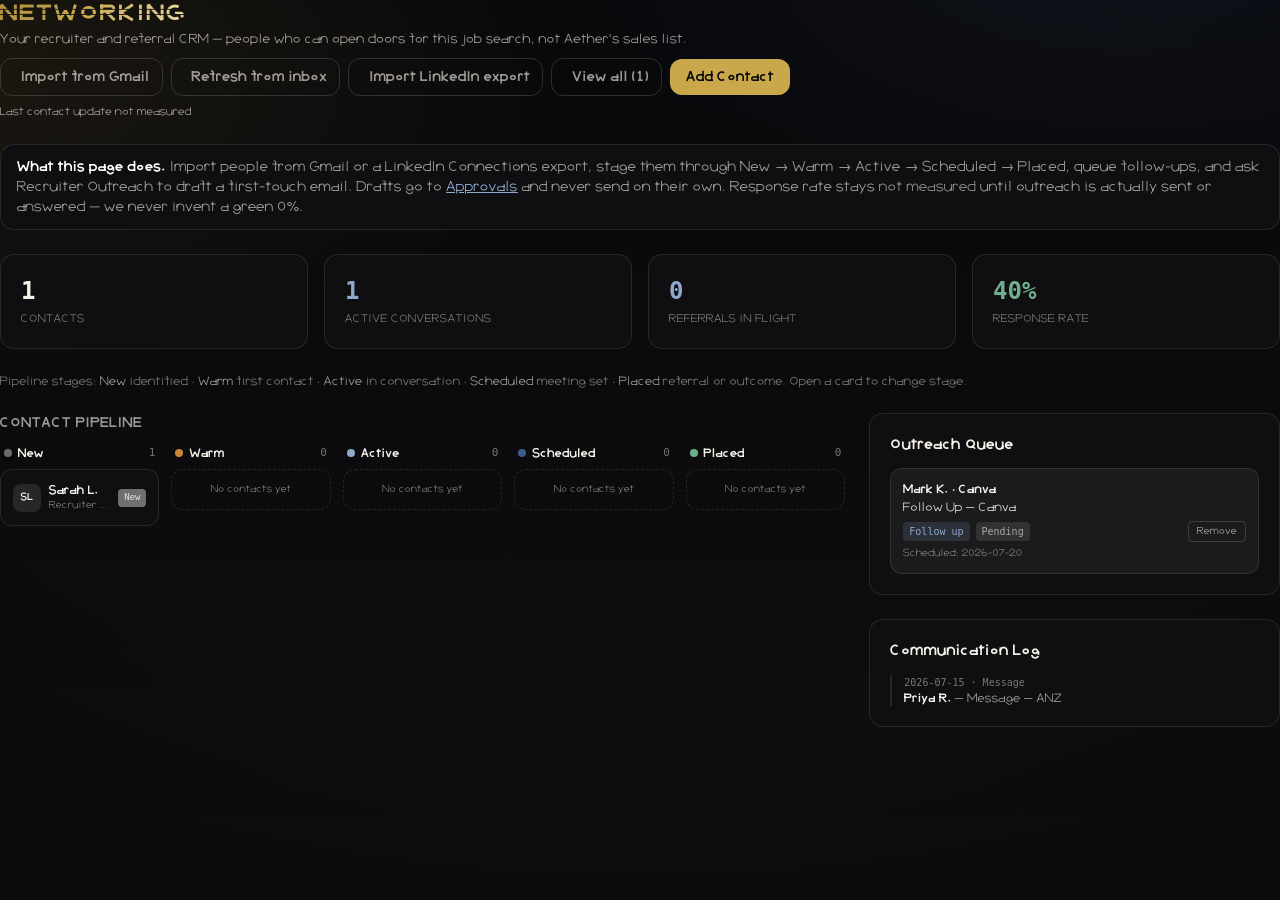
Scenario: NetworkingPage — Add Contact wiring (MV-networking-001) › refetches the summary and renders the persisted contact after a successful save (no reload-loss)
Click the button with test id "add-contact-btn" at {"x": 730, "y": 77}, box [670,59,790,95]
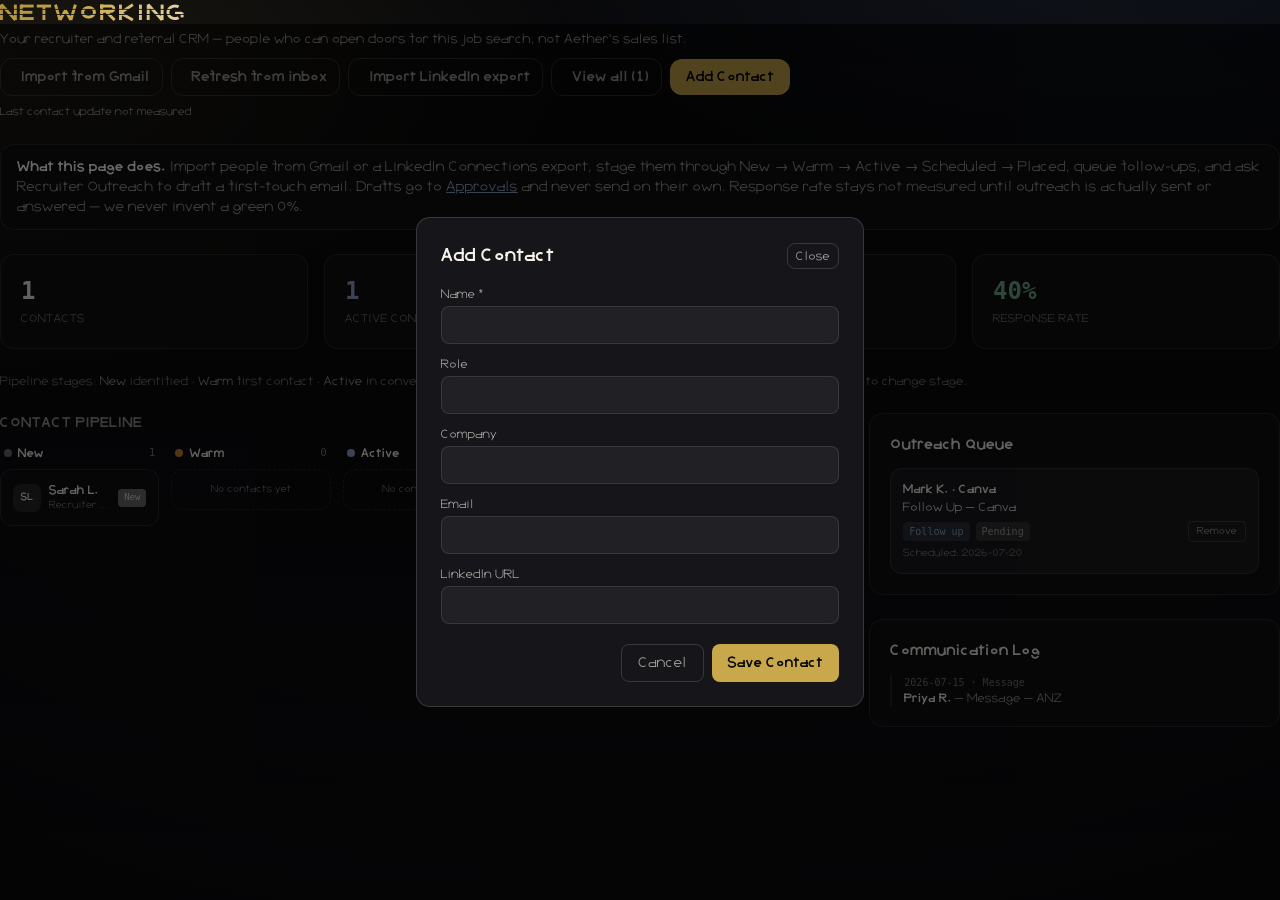
Type "Jamie Rivera" into the field with test id "contact-name-input" at {"x": 640, "y": 325}, box [441,306,839,344]
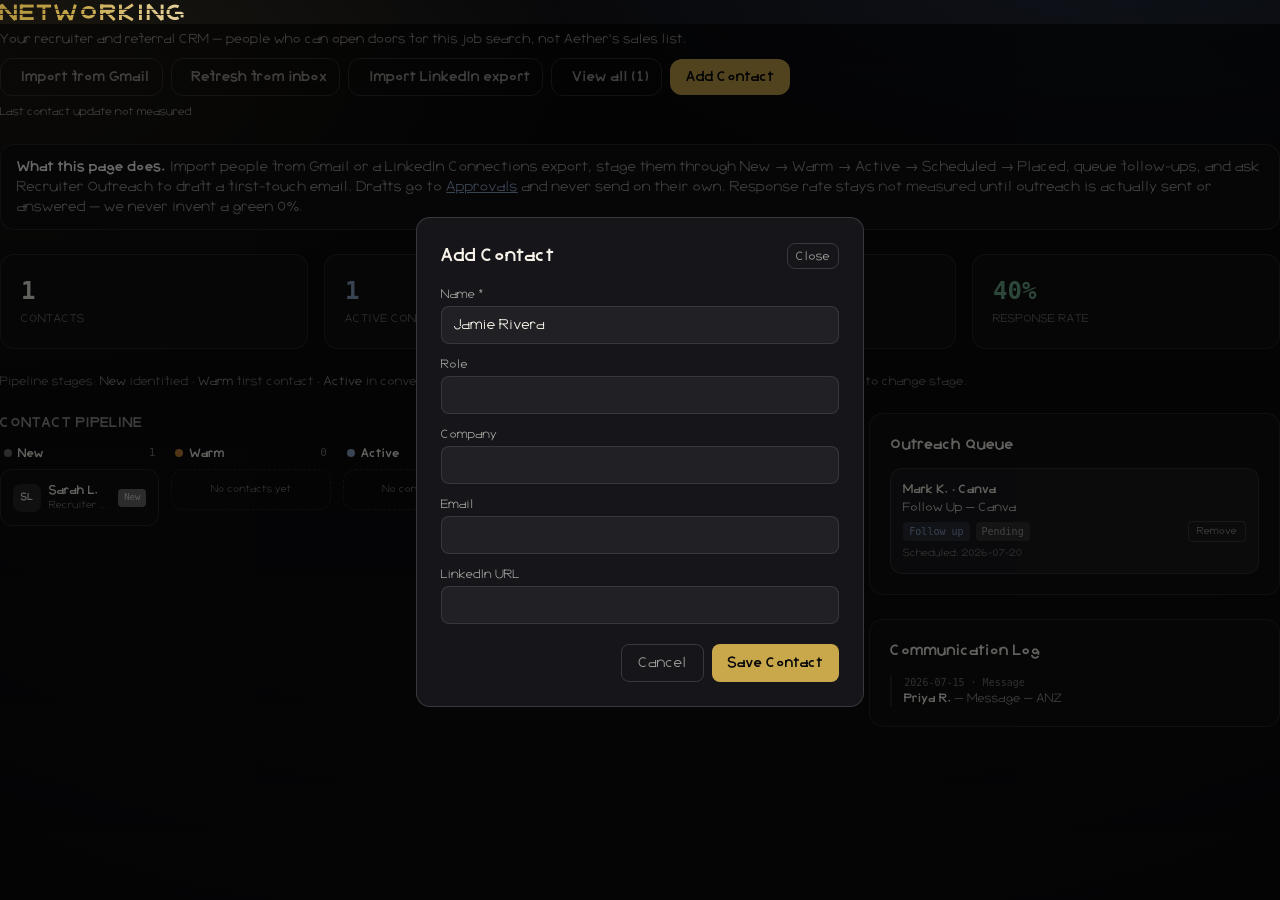
Click the button with test id "save-contact-btn" at {"x": 775, "y": 663}, box [712,644,839,682]
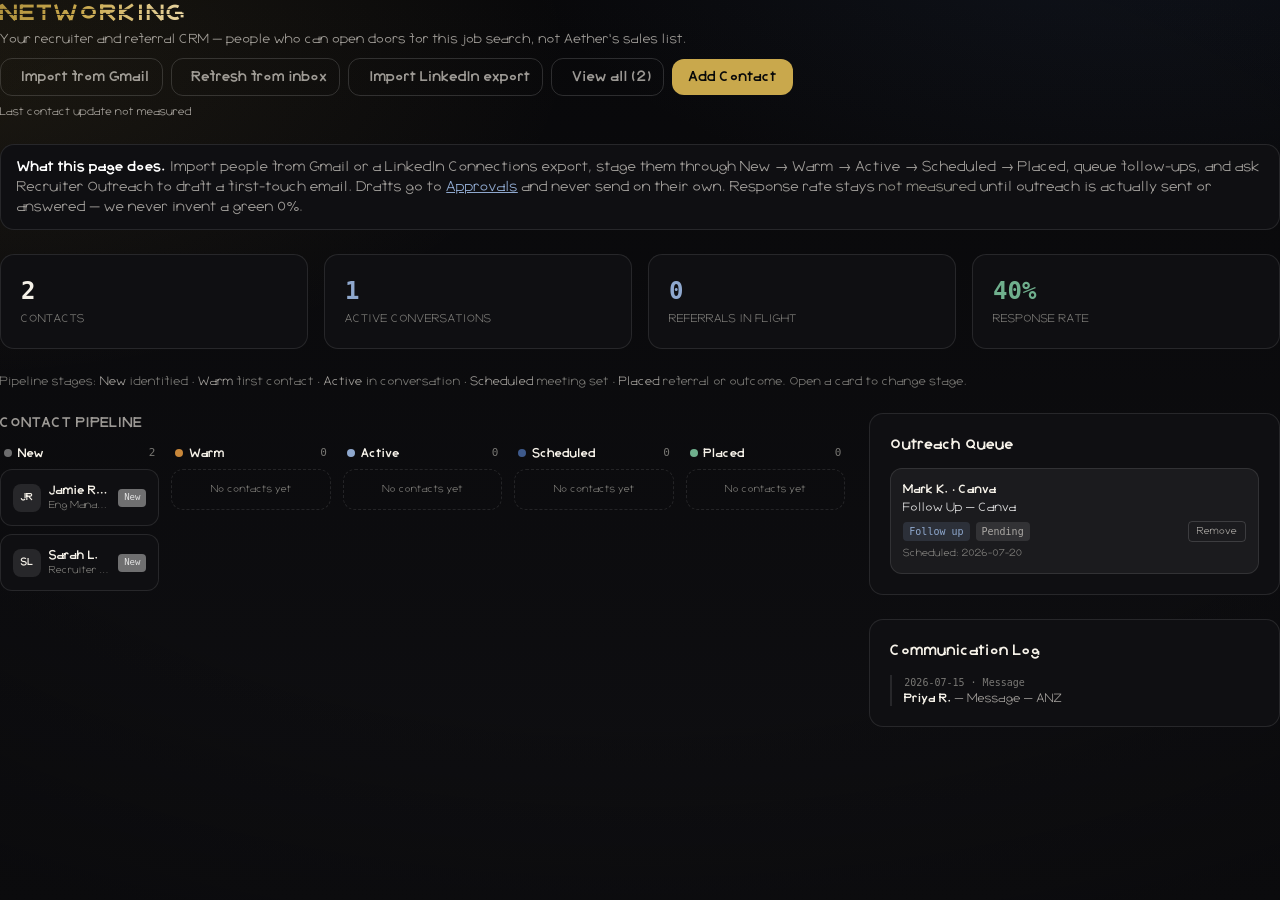
Result: the text "Jamie Rivera" is shown at [49,482,110,498]
Result: the element with test id "add-contact-modal" is gone
